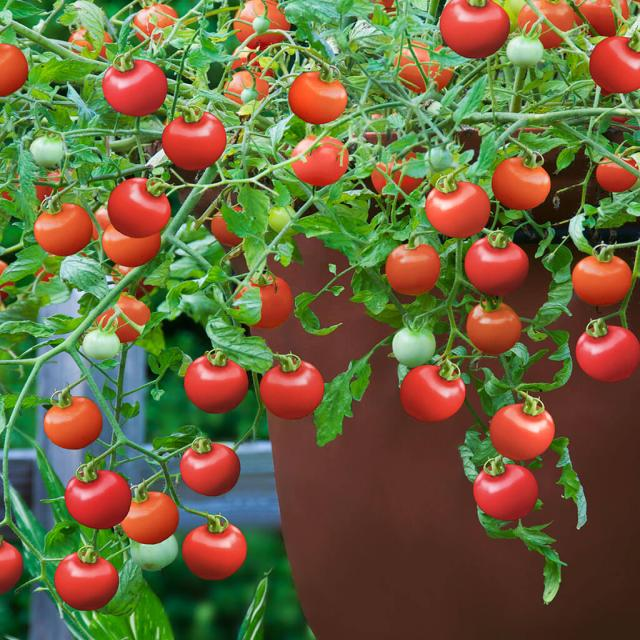tomato: (417, 175, 495, 244), (397, 359, 478, 424), (456, 225, 530, 293), (464, 462, 544, 524), (101, 52, 174, 118), (258, 355, 327, 424), (489, 396, 559, 464), (572, 318, 640, 385), (157, 105, 229, 168), (62, 466, 132, 530), (103, 180, 181, 237), (569, 243, 639, 306), (183, 353, 252, 415), (439, 0, 509, 60), (26, 198, 98, 256), (183, 518, 255, 575), (57, 545, 120, 610), (40, 391, 109, 449), (291, 69, 359, 127), (173, 442, 244, 496), (496, 153, 552, 213), (463, 296, 518, 356), (382, 246, 447, 296)
